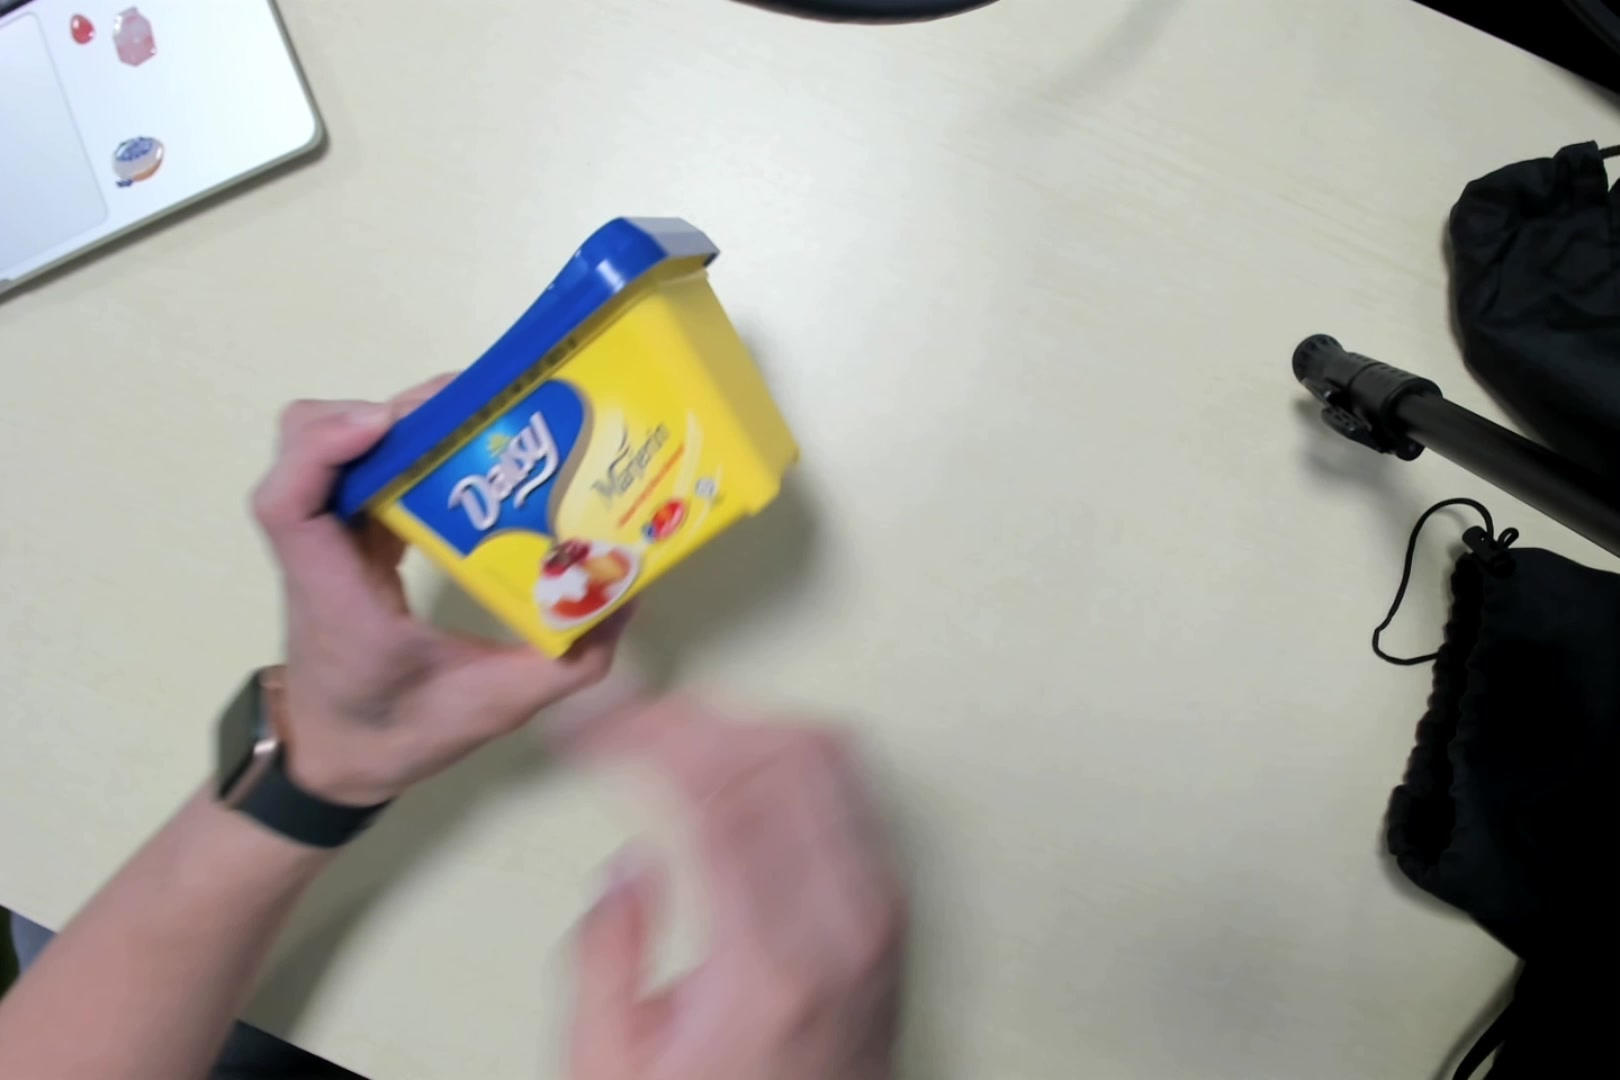OtherSpreads_400-499g_Halal_NonHealthy: (336, 207, 804, 662)
